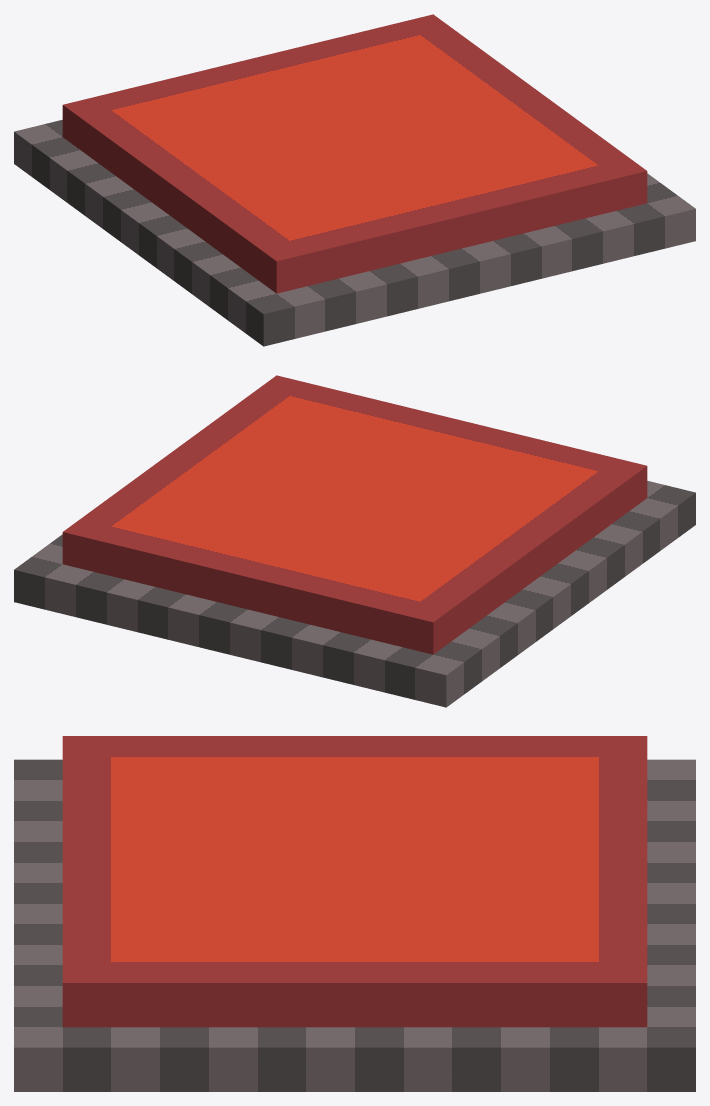
Rendered from ResetButton.fbx.
3 views of the same model, one above another, from view 1: azimuth 30°, elevation 25°; view 2: azimuth 150°, elevation 25°; view 3: azimuth 270°, elevation 25° (orthographic). The views are drawn at different scales.
Visible parts, largest first — view 1: Top, Base; view 2: Top, Base; view 3: Top, Base.
Boxes of the visible parts, <box> form: Top: <box>62,14,647,293</box>; Base: <box>14,120,695,346</box>; Top: <box>62,375,647,654</box>; Base: <box>14,481,695,707</box>; Top: <box>62,736,647,1027</box>; Base: <box>14,759,695,1091</box>.
Bounding box in the file's own units: 87.5 × 12.5 × 87.5.
Materials: 2 (2 with a texture image).
